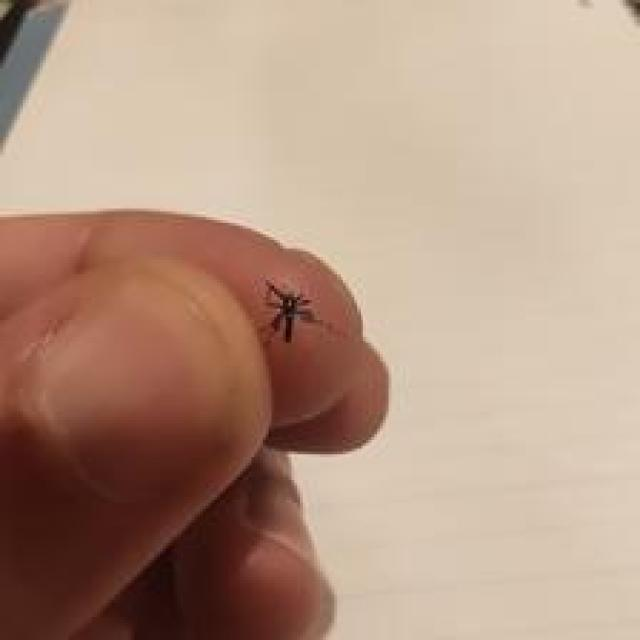Aedes albopictus: (260, 279, 323, 344)
